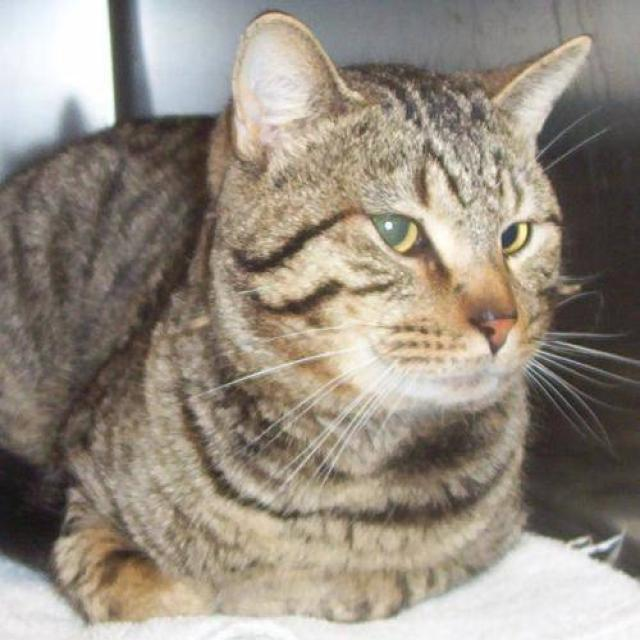cat: (0, 8, 639, 625)
